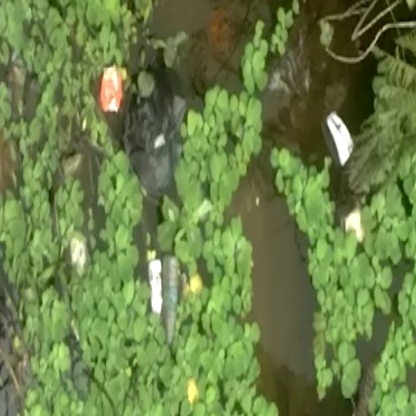plastic-bag: (127, 67, 193, 193)
